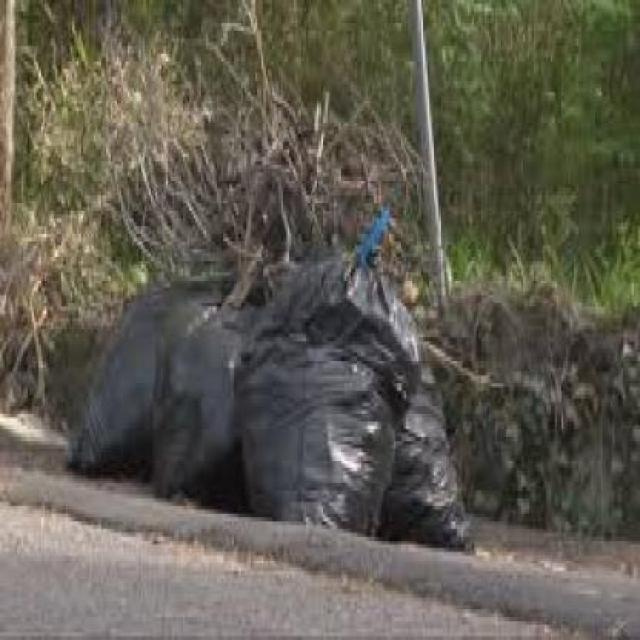garbage: (57, 203, 467, 552)
